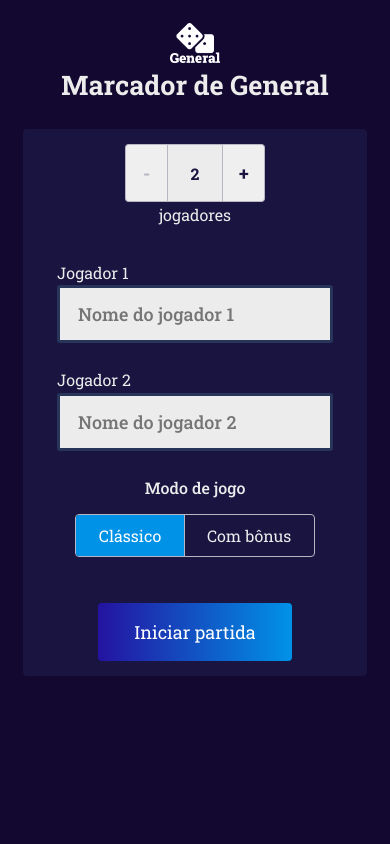
it: app › começa no cadastro e vai para a partida ao iniciar
Expected: the heading "Marcador de General" is shown, [61, 67, 329, 102]
Type "Ana" into the field with placeholder "Nome do jogador 1" at [195, 314], box [57, 286, 333, 344]
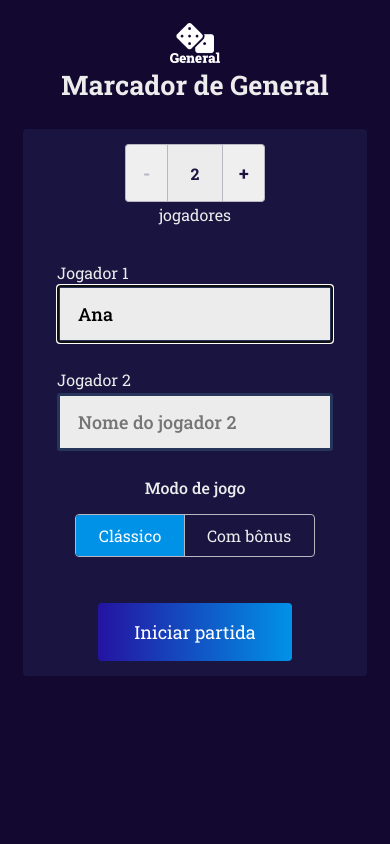
Type "Bob" into the field with placeholder "Nome do jogador 2" at [195, 422], box [57, 393, 333, 451]
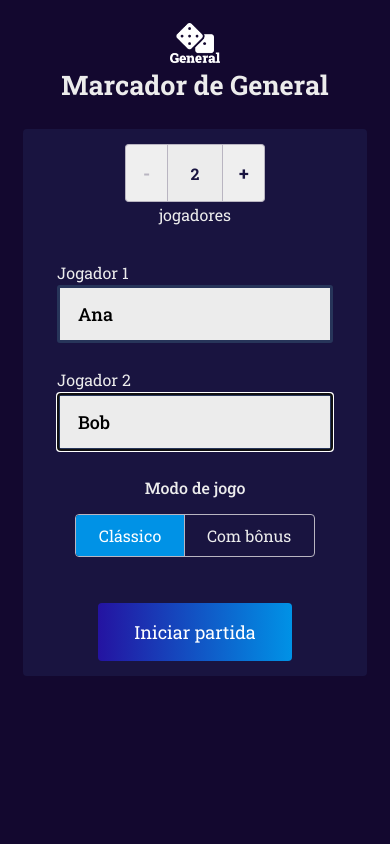
Click the button "Iniciar partida" at [195, 632], box [98, 603, 292, 661]
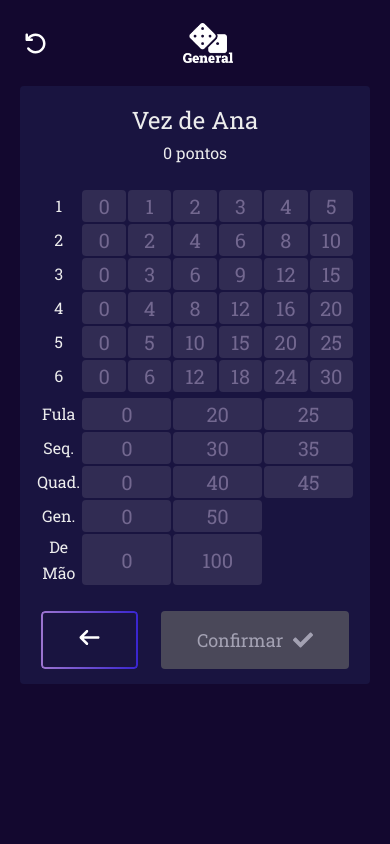
Now the text "Vez de Ana" is shown, box [132, 104, 258, 136]
Now the heading "Marcador de General" is gone
